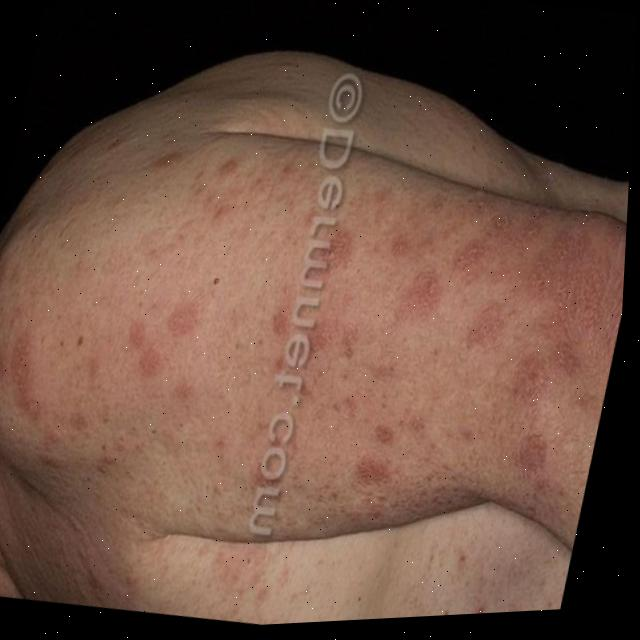Eczema: (18, 109, 633, 566)
